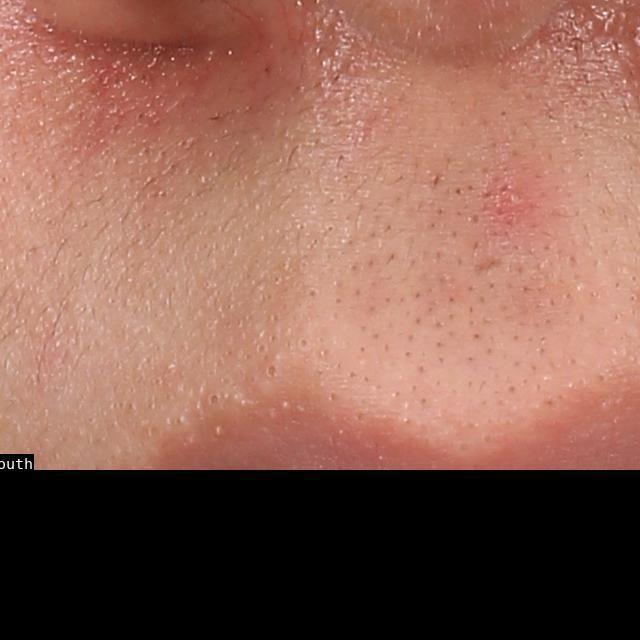atrophic_scar: (470, 256, 509, 280)
comedo: (261, 362, 280, 381), (205, 391, 221, 408)
